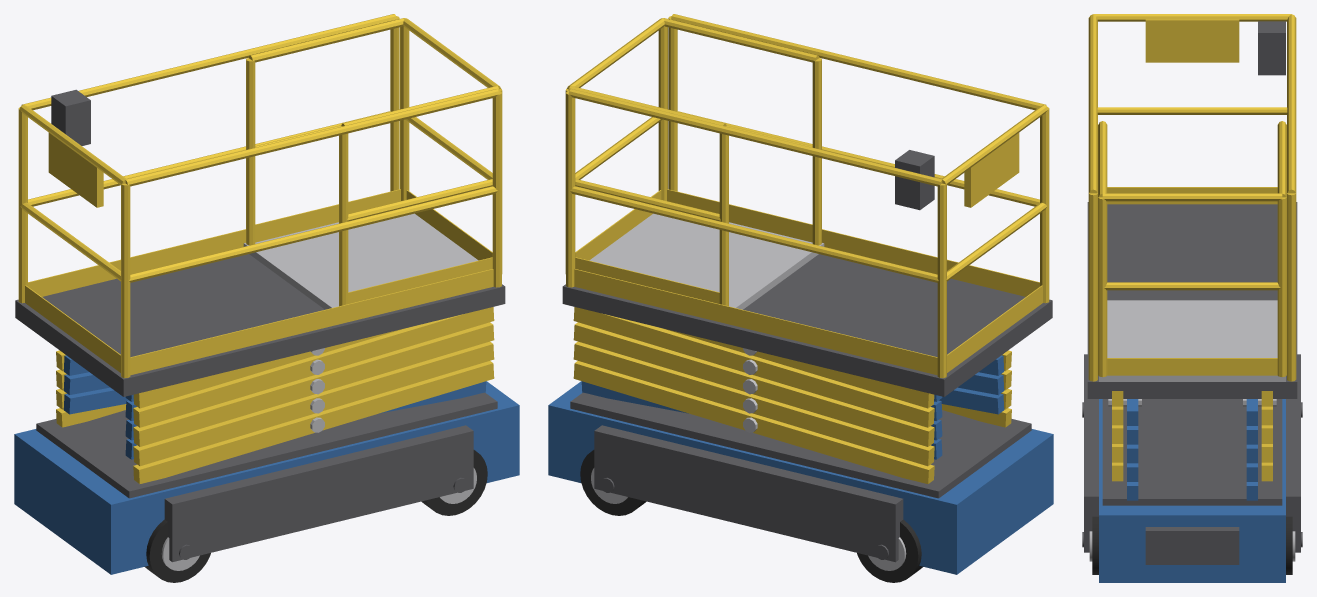
Rendered from SM_ScissorLift.fbx.
3 views of the same model, side by side, from view 1: azimuth 30°, elevation 25°; view 2: azimuth 150°, elevation 25°; view 3: azimuth 270°, elevation 25° (orthographic). The views are drawn at different scales.
Parts seen in each view (by area): view 1: SL_Platform, SL_Chassis, SL_DeckExtension, SL_Arm_2AR, SL_Arm_3AR, SL_Arm_1AR, SL_Arm_4AR, SL_Arm_5AR, SL_Wheel_RR, SL_Wheel_FR, SL_Arm_1BL, SL_Arm_1BR (+2 smaller); view 2: SL_Platform, SL_Chassis, SL_DeckExtension, SL_Arm_2AL, SL_Arm_3AL, SL_Arm_1AL, SL_Arm_4AL, SL_Arm_5AL, SL_Wheel_RL, SL_Wheel_FL, SL_Arm_1BR, SL_Arm_1BL (+2 smaller); view 3: SL_Platform, SL_Chassis, SL_DeckExtension, SL_Wheel_FL, SL_Wheel_FR, SL_Arm_5BL, SL_Arm_5BR, SL_Arm_1AL, SL_Arm_1AR.
Part boxes in pixels (left/top/right/bottom): SL_Platform: left=15, top=14, right=505, bottom=396; SL_Chassis: left=14, top=381, right=519, bottom=574; SL_DeckExtension: left=243, top=18, right=502, bottom=309; SL_Arm_2AR: left=133, top=341, right=494, bottom=466; SL_Arm_3AR: left=133, top=322, right=494, bottom=446; SL_Arm_1AR: left=133, top=361, right=494, bottom=483; SL_Arm_4AR: left=133, top=307, right=494, bottom=427; SL_Arm_5AR: left=133, top=328, right=406, bottom=408; SL_Wheel_RR: left=144, top=519, right=210, bottom=582; SL_Wheel_FR: left=421, top=450, right=487, bottom=515; SL_Arm_1BL: left=63, top=387, right=128, bottom=414; SL_Arm_1BR: left=125, top=381, right=486, bottom=459; SL_Platform: left=562, top=14, right=1052, bottom=396; SL_Chassis: left=548, top=381, right=1053, bottom=574; SL_DeckExtension: left=565, top=18, right=824, bottom=309; SL_Arm_2AL: left=573, top=341, right=934, bottom=466; SL_Arm_3AL: left=573, top=322, right=934, bottom=446; SL_Arm_1AL: left=573, top=361, right=934, bottom=483; SL_Arm_4AL: left=573, top=307, right=934, bottom=427; SL_Arm_5AL: left=661, top=328, right=934, bottom=408; SL_Wheel_RL: left=857, top=519, right=923, bottom=582; SL_Wheel_FL: left=580, top=450, right=646, bottom=515; SL_Arm_1BR: left=939, top=387, right=1004, bottom=414; SL_Arm_1BL: left=581, top=381, right=942, bottom=459; SL_Platform: left=1087, top=14, right=1297, bottom=398; SL_Chassis: left=1084, top=354, right=1300, bottom=582; SL_DeckExtension: left=1098, top=121, right=1286, bottom=381; SL_Wheel_FL: left=1286, top=516, right=1302, bottom=574; SL_Wheel_FR: left=1082, top=516, right=1098, bottom=574; SL_Arm_5BL: left=1246, top=399, right=1257, bottom=425; SL_Arm_5BR: left=1127, top=399, right=1138, bottom=425; SL_Arm_1AL: left=1258, top=399, right=1276, bottom=481; SL_Arm_1AR: left=1108, top=399, right=1126, bottom=481.
Size of the model in its own units: 249 by 240 by 118.
